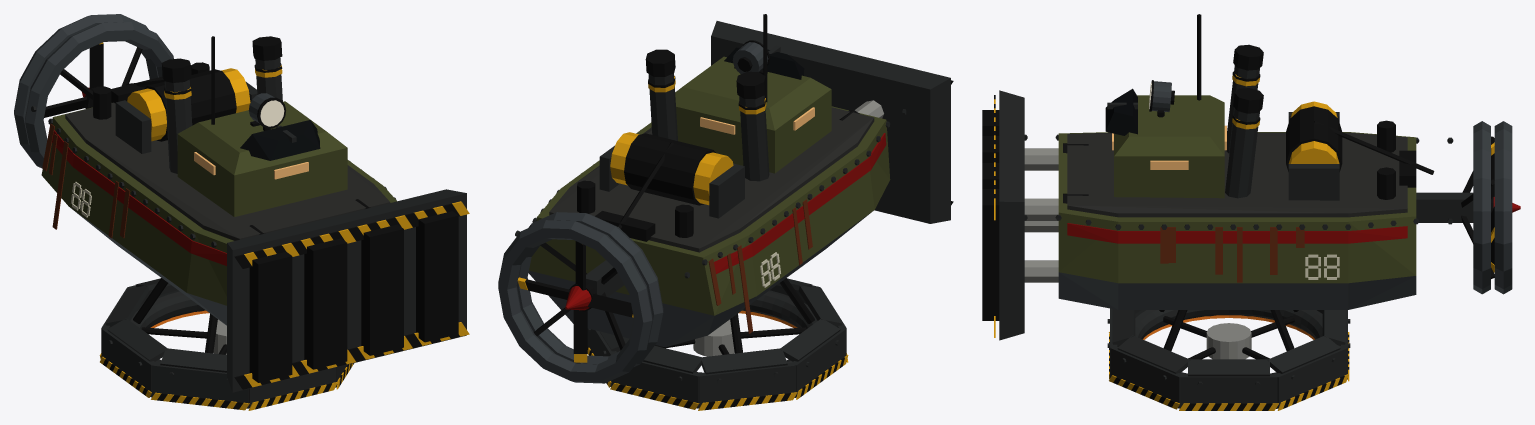
The model's file is tug.obj.
3 renders of one model, left to right at view 1: azimuth 30°, elevation 25°; view 2: azimuth 150°, elevation 25°; view 3: azimuth 270°, elevation 25°, orthographic. The views are drawn at different scales.
Visible parts, largest first — view 1: tug; view 2: tug; view 3: tug.
Part boxes in pixels (x1=…): tug: x1=14, y1=14, x2=469, y2=410; tug: x1=498, y1=14, x2=953, y2=410; tug: x1=982, y1=14, x2=1520, y2=410.
Size of the model in its own units: 39.26 by 53.92 by 80.
1 material, 1 textured.
